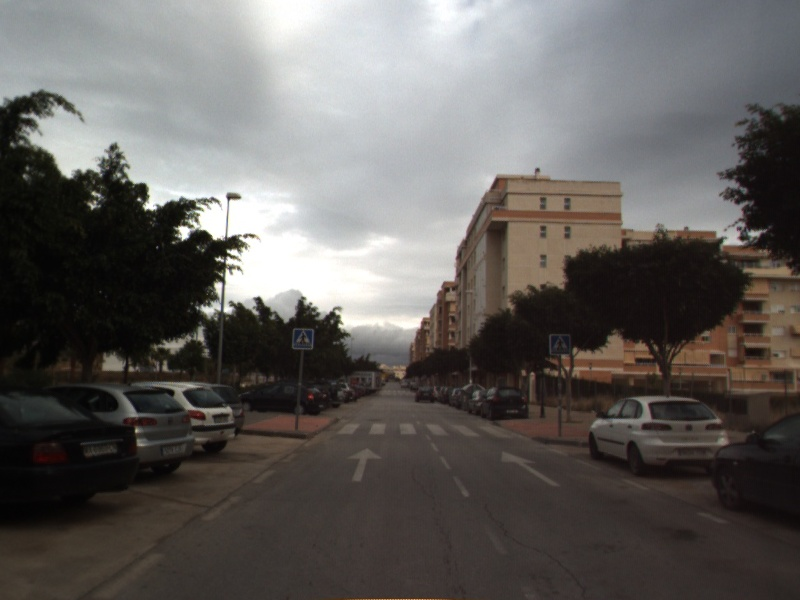STRAIGHT: (499, 449, 563, 489), (344, 446, 385, 483)
